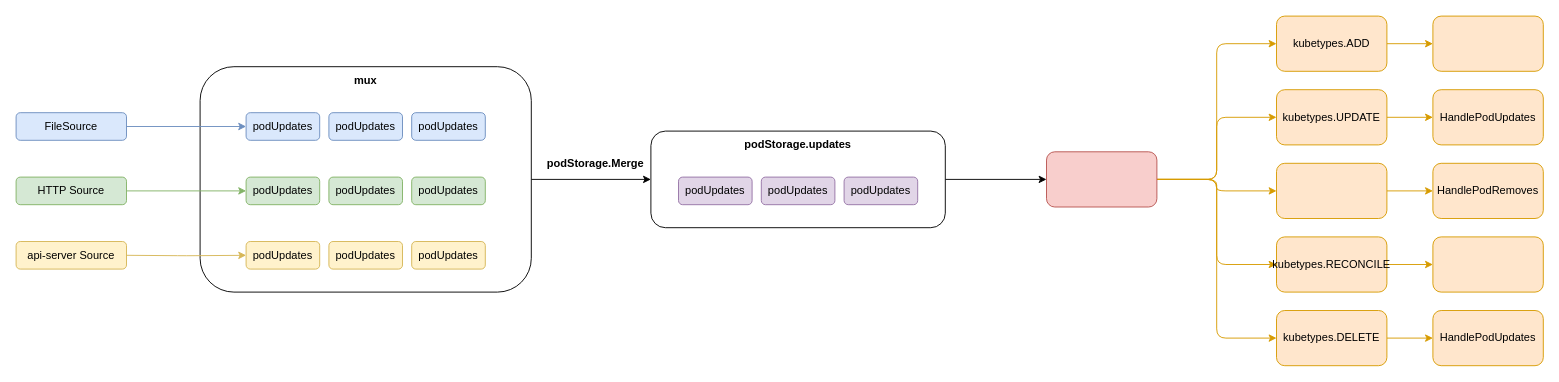
Some shapes in this 1559 by 382 pixel diagram are drawn without their labels. The shapes that lost their labels are listed below. From the top down, each one's centre as x and y in pixels, then its label:
At (x=1487, y=43): "HandlePodAdditions".
At (x=1101, y=179): "syncLoopInteration".
At (x=1331, y=190): "kubetypes.REMOVE".
At (x=1487, y=264): "HandlePodReconcile".
